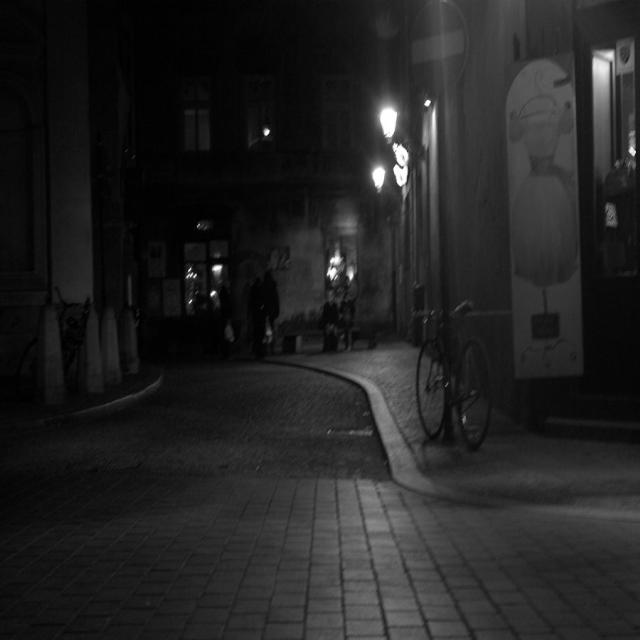Bicycle: (407, 289, 496, 465)
